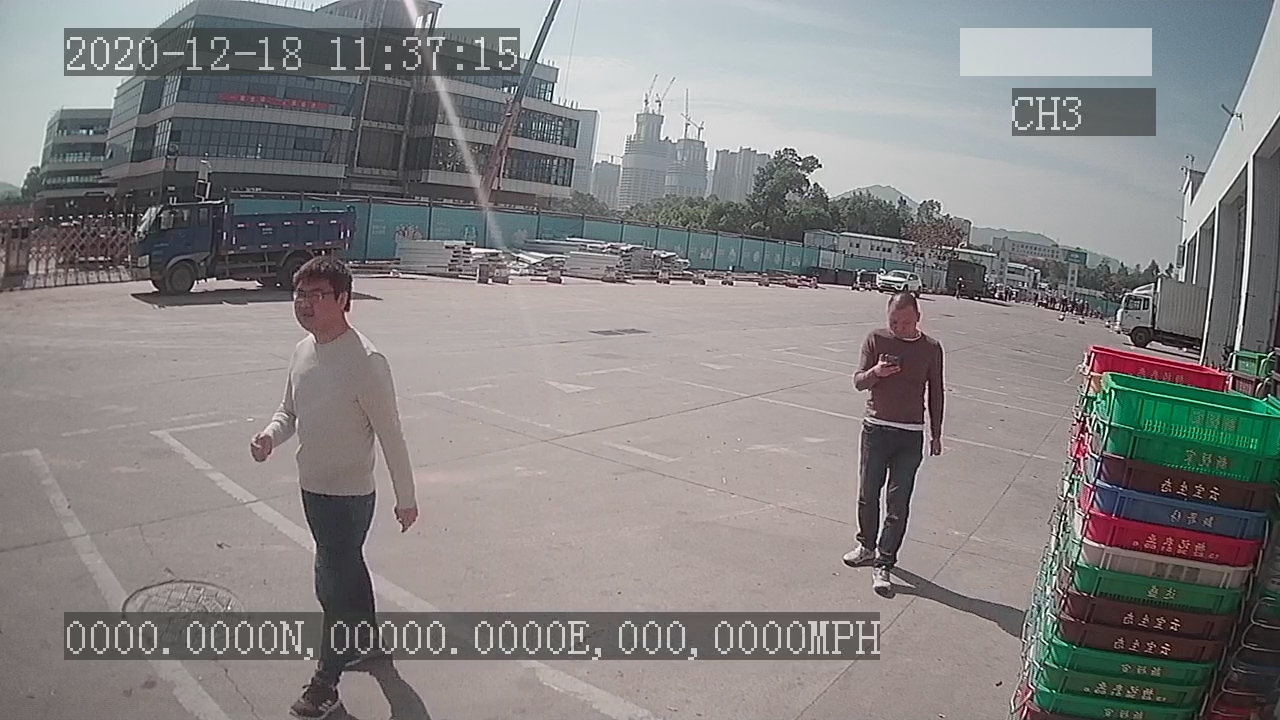person: (841, 290, 945, 590)
